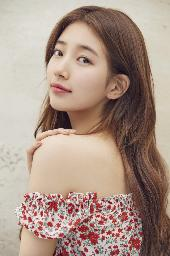face: (48, 26, 108, 108)
